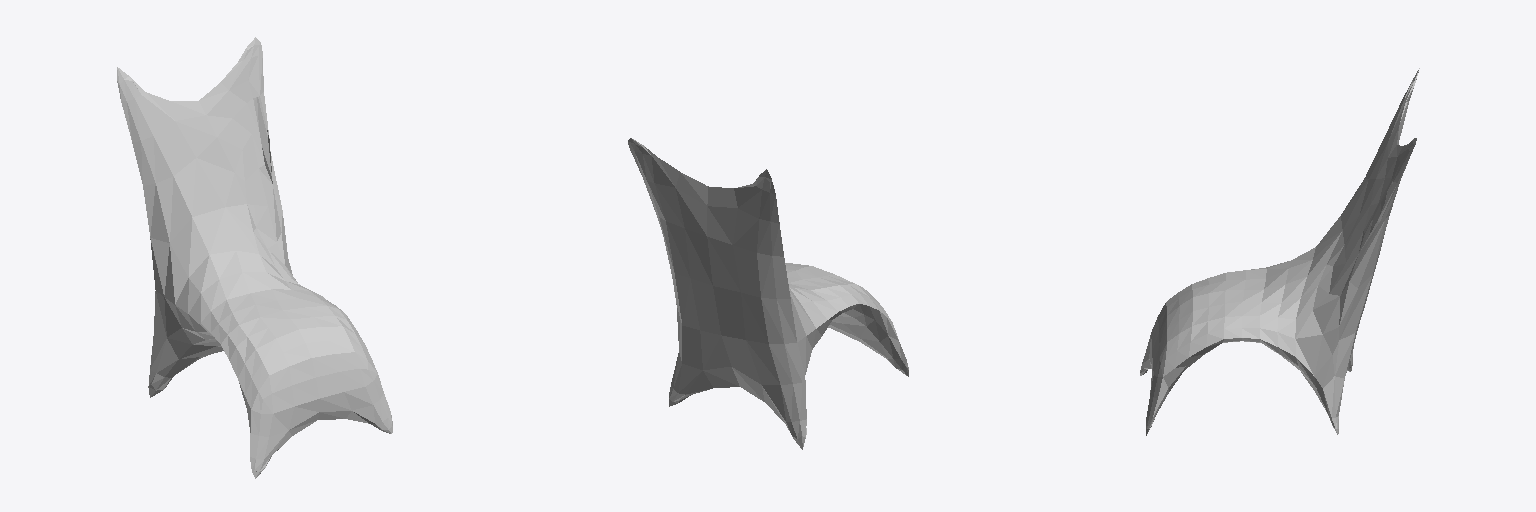
File: DogInimigo2.obj
The picture shows the model from 3 angles: view 1: azimuth 30°, elevation 25°; view 2: azimuth 150°, elevation 25°; view 3: azimuth 270°, elevation 25°; orthographic projection.
Visible parts, largest first — view 1: Cube; view 2: Cube; view 3: Cube.
Boxes of the visible parts, x1=… form: Cube: x1=117, y1=37, x2=392, y2=478; Cube: x1=628, y1=138, x2=908, y2=449; Cube: x1=1140, y1=68, x2=1419, y2=435.
Size of the model in its own units: 7.9 by 16.09 by 13.16.